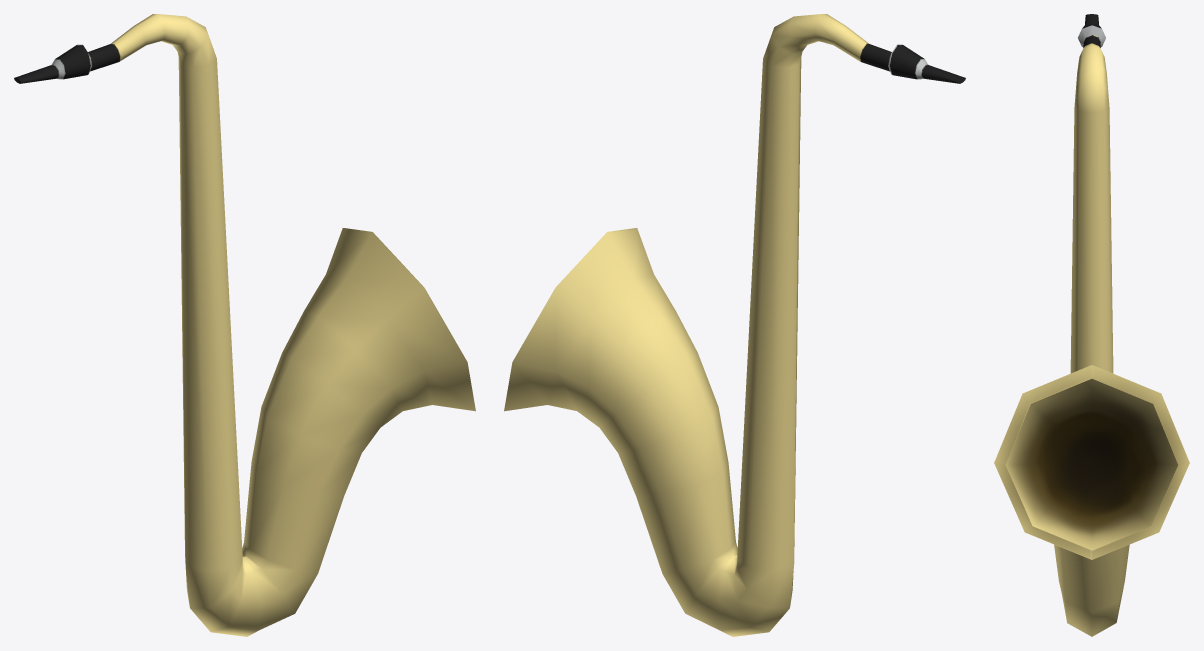
File: saxophone.fbx
3 renders of one model, left to right at view 1: azimuth 30°, elevation 25°; view 2: azimuth 150°, elevation 25°; view 3: azimuth 270°, elevation 25°, orthographic. The views are drawn at different scales.
Visible parts, largest first — view 1: saxophone; view 2: saxophone; view 3: saxophone.
Part boxes in pixels (<box>): saxophone: <box>14,14,475,636</box>; saxophone: <box>504,14,965,636</box>; saxophone: <box>994,14,1189,636</box>.
Size of the model in its own units: 66.7 by 95.6 by 30.95.
1 material, 1 textured.
